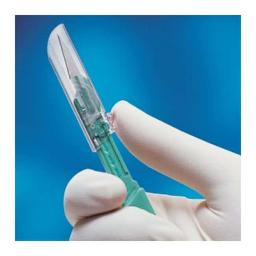scalpel: (46, 22, 158, 216)
